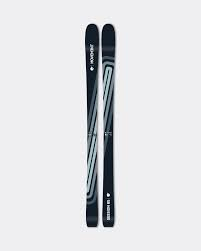skis: (82, 23, 117, 227)
